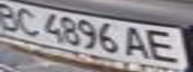4: (36, 11, 63, 43)
6: (96, 20, 121, 56)
8: (57, 15, 81, 47)
9: (75, 17, 100, 51)
A: (121, 24, 154, 60)
B: (0, 1, 24, 31)
C: (12, 6, 42, 37)
E: (142, 27, 190, 65)
